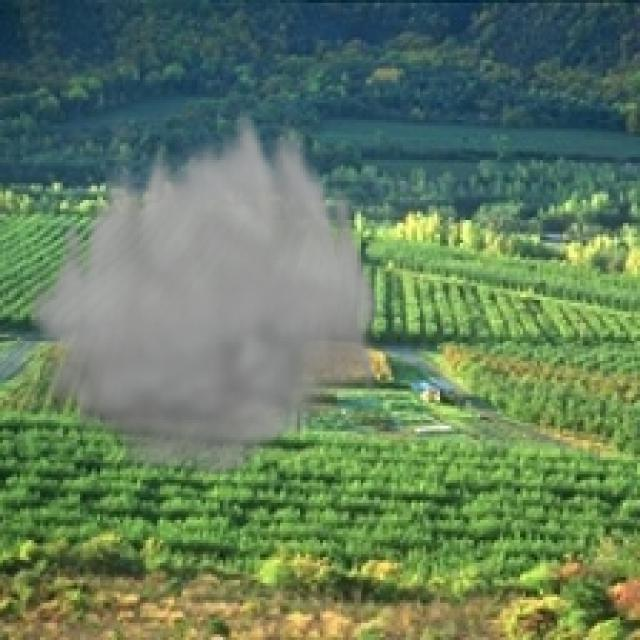Smoke: (23, 97, 383, 486)
